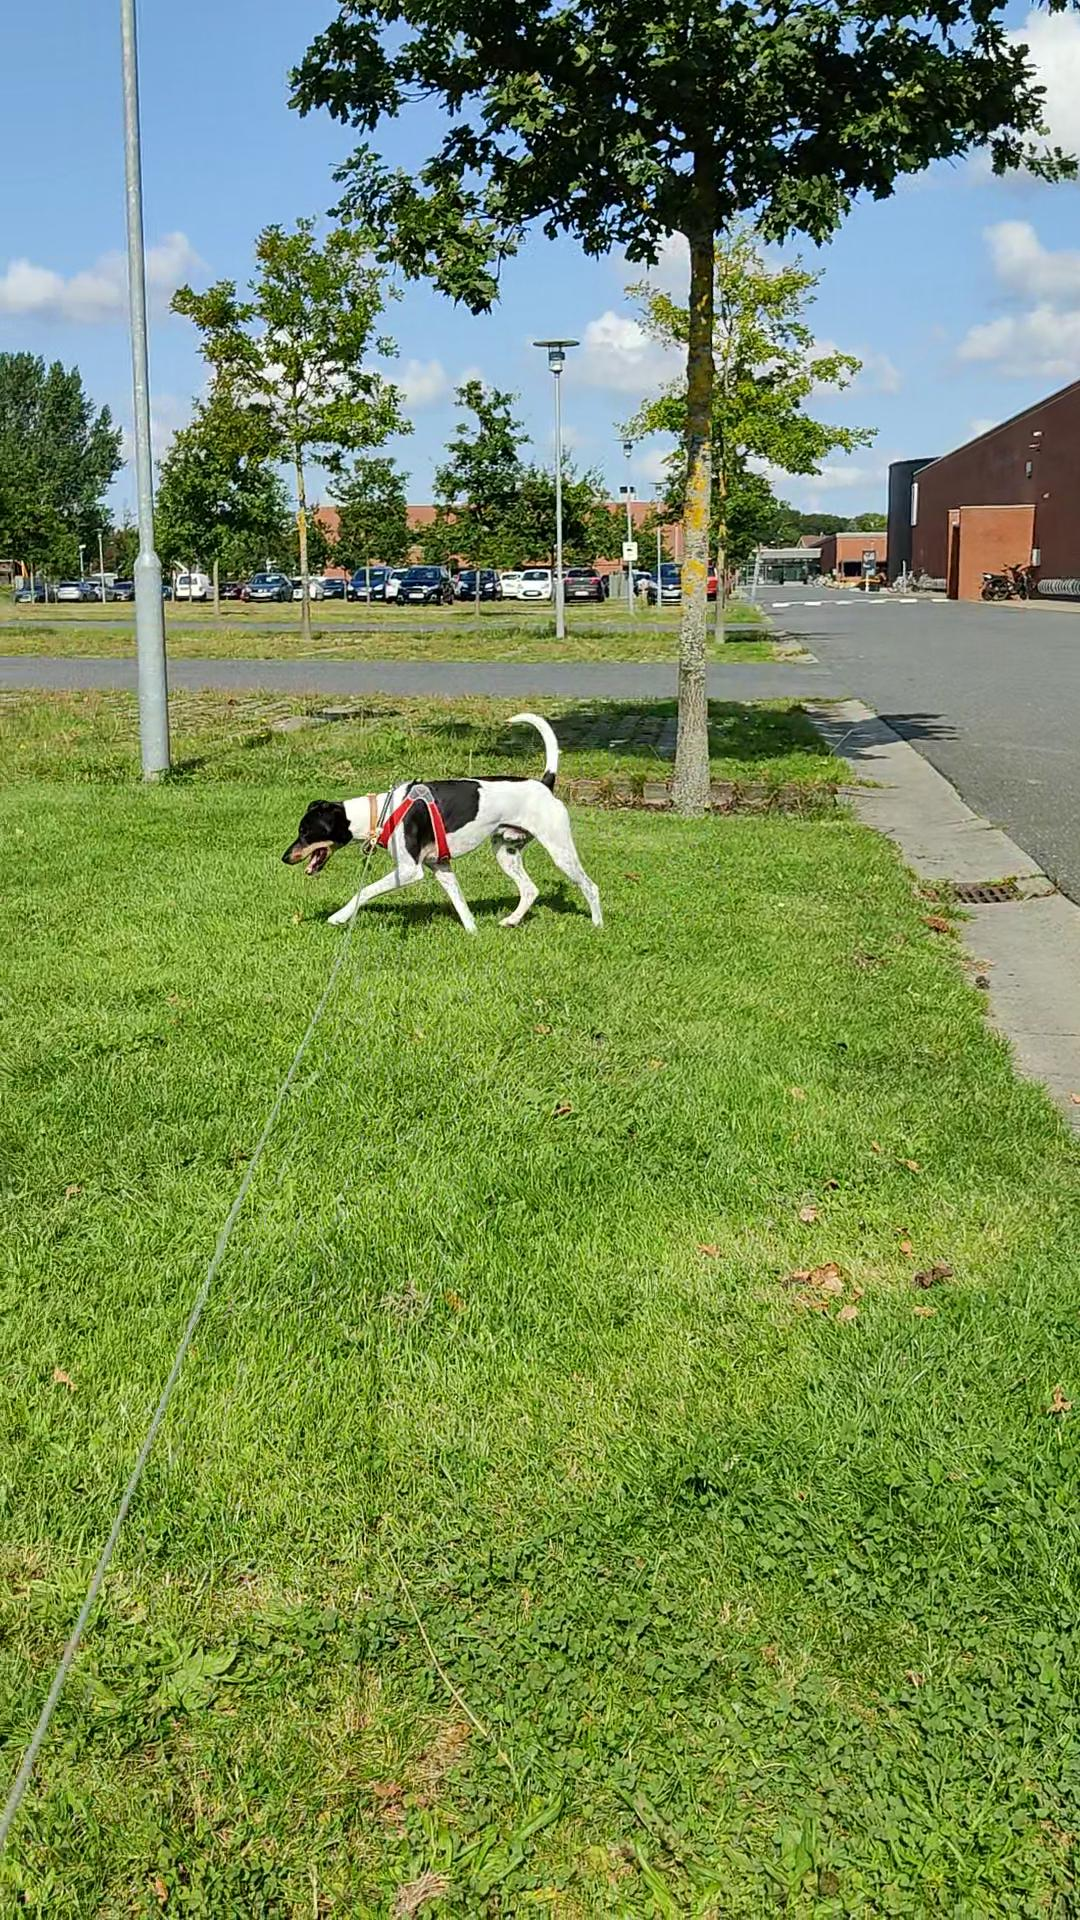Dog: (261, 704, 611, 934)
